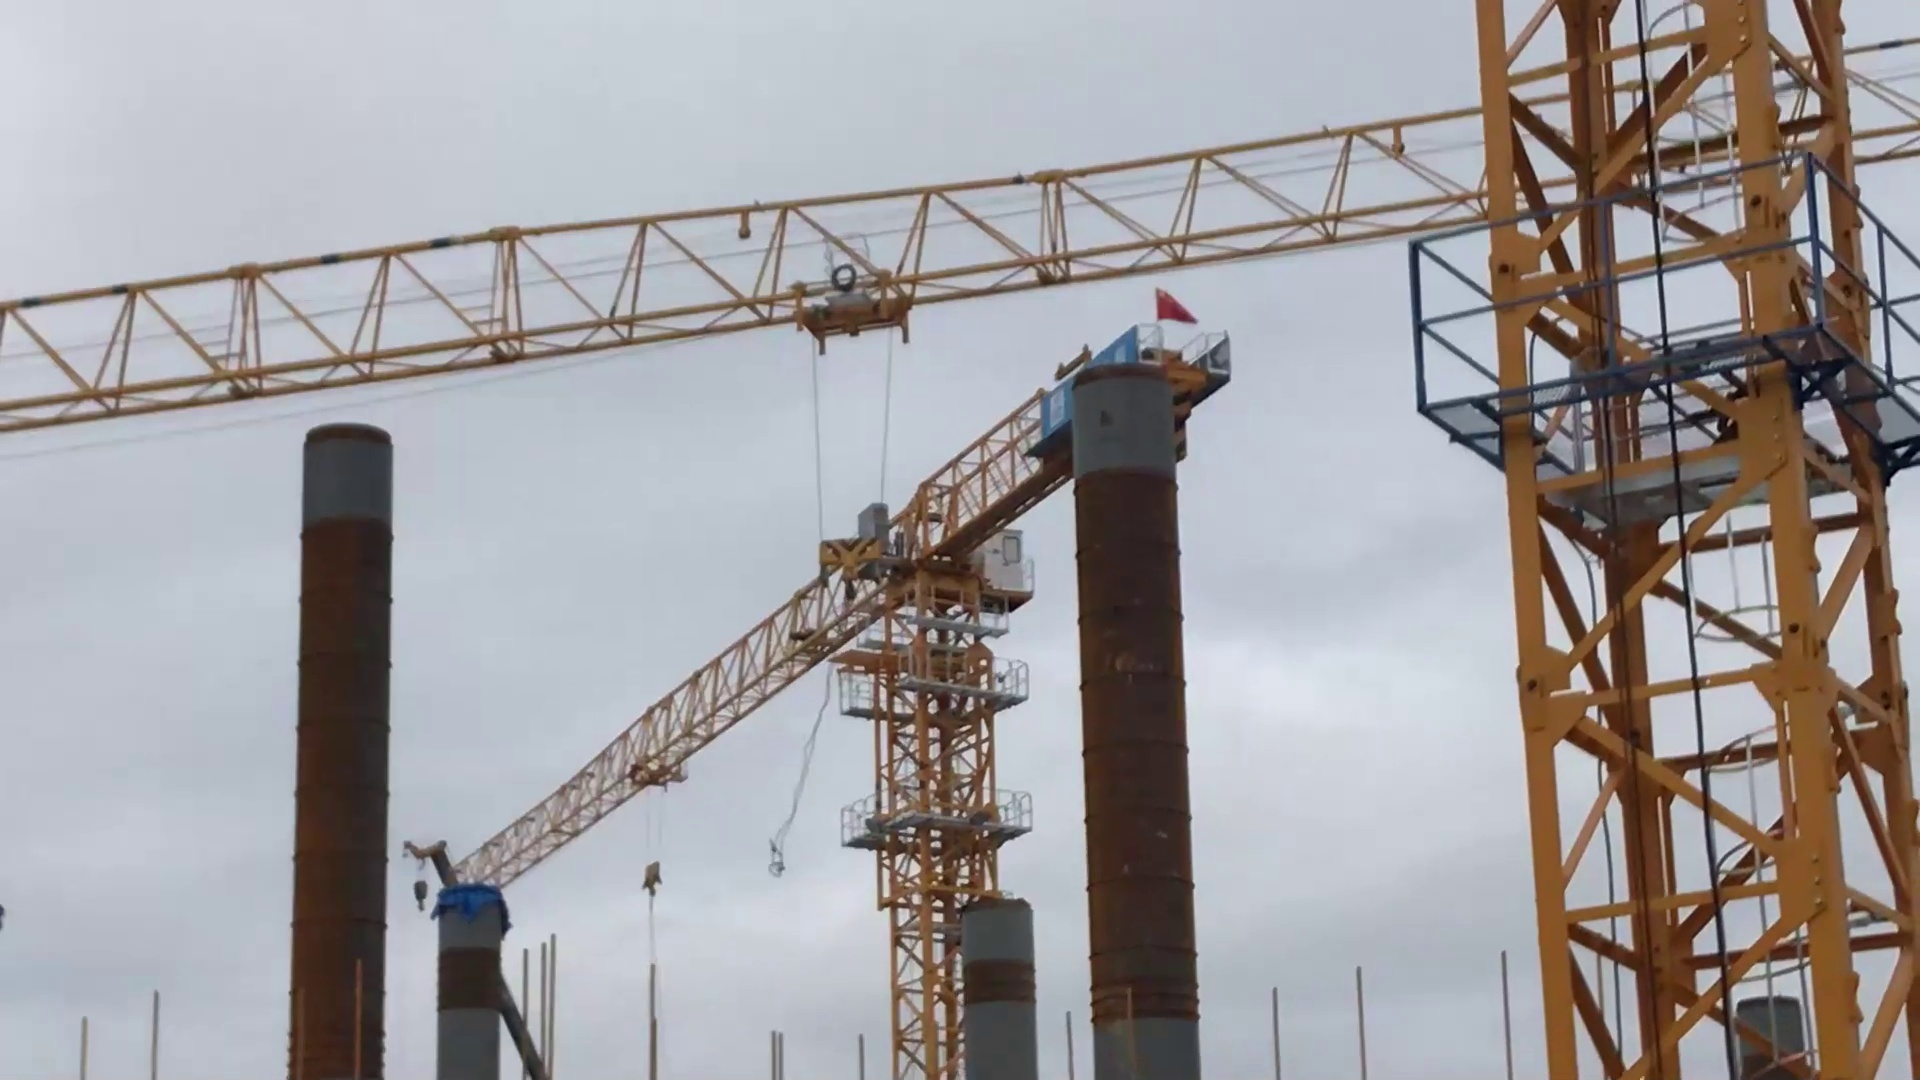hook: (798, 526, 905, 591)
